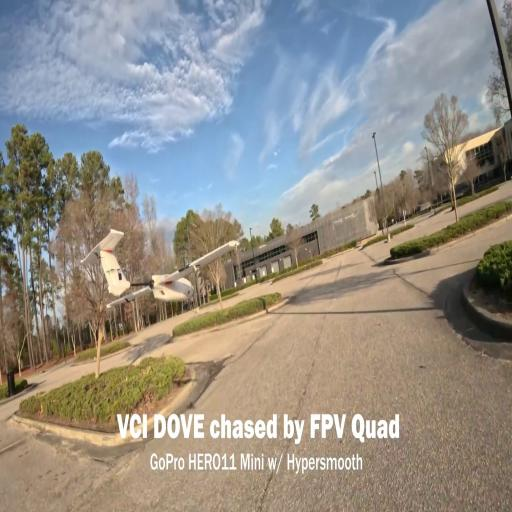uav: (79, 221, 241, 317)
